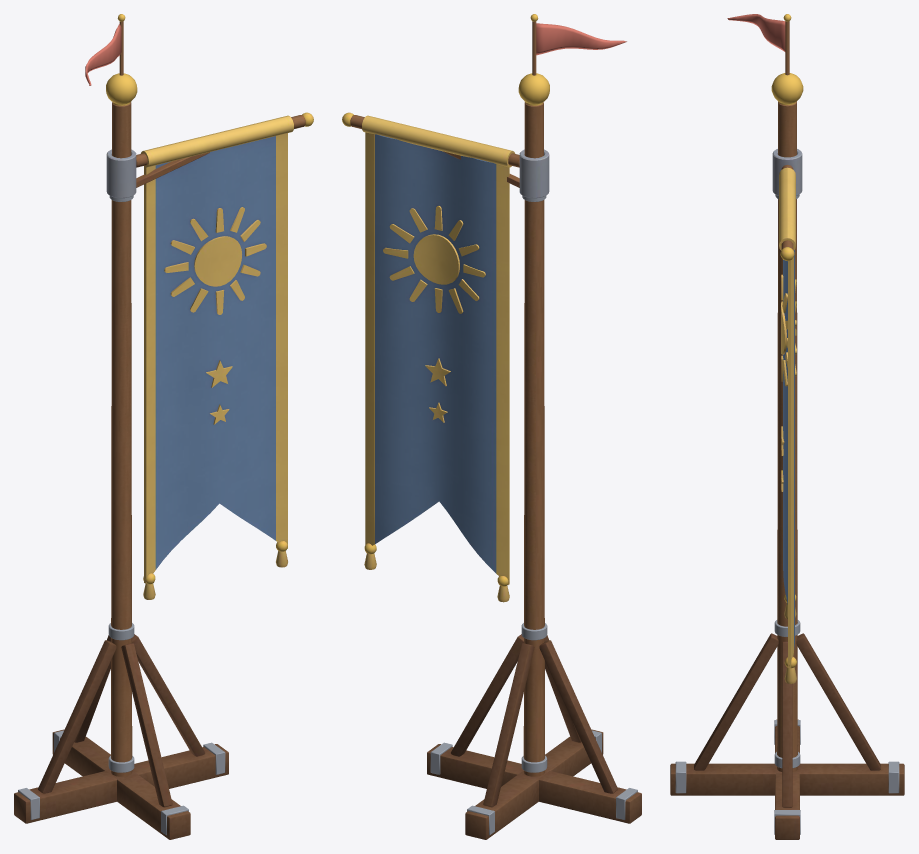
File: estandarte.glb
3 renders of one model, left to right at view 1: azimuth 30°, elevation 25°; view 2: azimuth 150°, elevation 25°; view 3: azimuth 270°, elevation 25°, orthographic.
Parts seen in each view (by area): view 1: banner-pole_body; view 2: banner-pole_body; view 3: banner-pole_body.
Part boxes in pixels (x1,y1,x2,y2): banner-pole_body: (14,14,313,839); banner-pole_body: (342,14,641,839); banner-pole_body: (670,14,904,839).
Size of the model in its own units: 1.9 by 4.83 by 1.32.
Materials: 6 (2 with a texture image).
